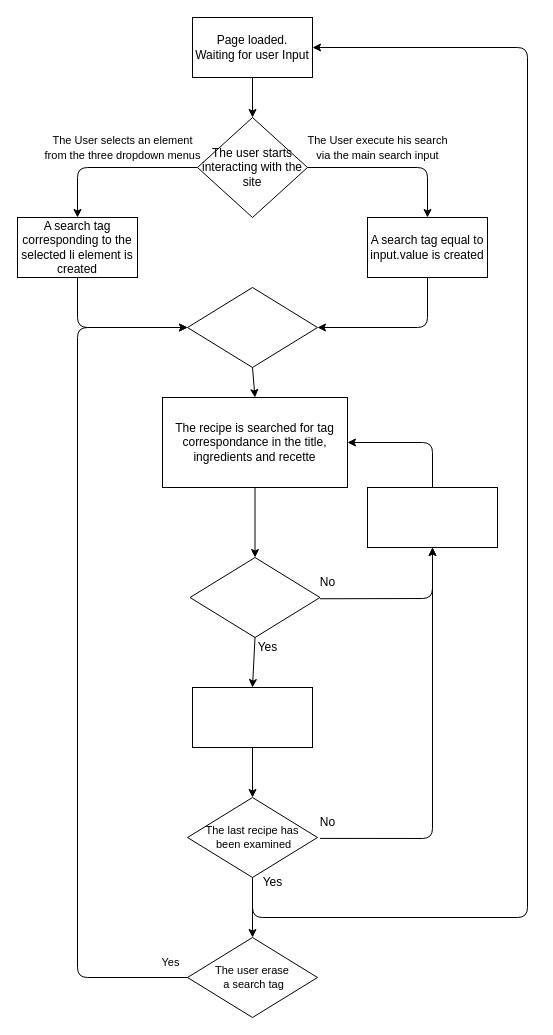
The diagram is 553 pixels wide and 1035 high, and some of its shapes have lost their labels. Here are the shapes that lost their labels. From the top down, the box of each, then its label:
(186, 286, 318, 368): The list of tags is updated
(366, 486, 498, 548): The internal count for the search is incremented to analyse the next recipe
(189, 556, 320, 638): All tags are included in the recipe.
(192, 686, 312, 748): The recipe will be displayed
